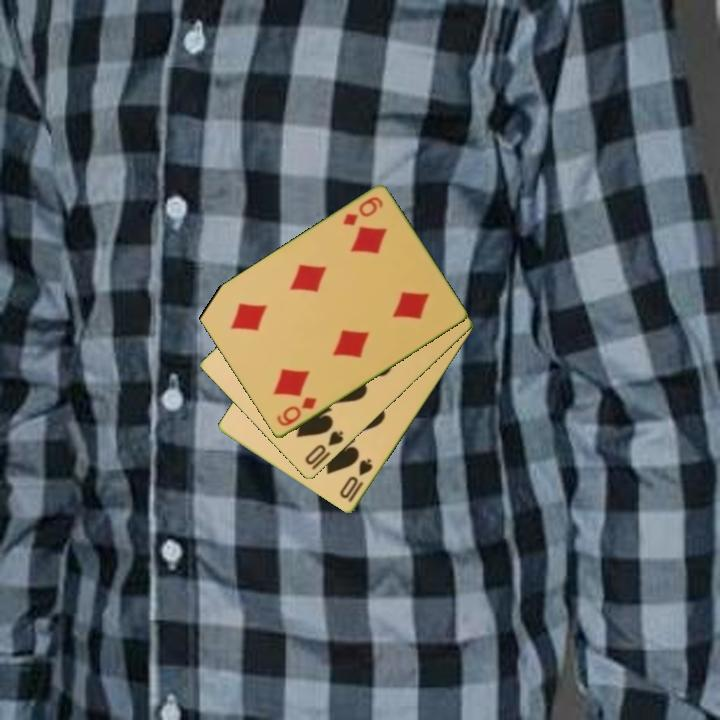10s: (336, 455, 376, 505), (302, 427, 346, 468)
6d: (273, 394, 320, 430), (339, 193, 386, 229)
